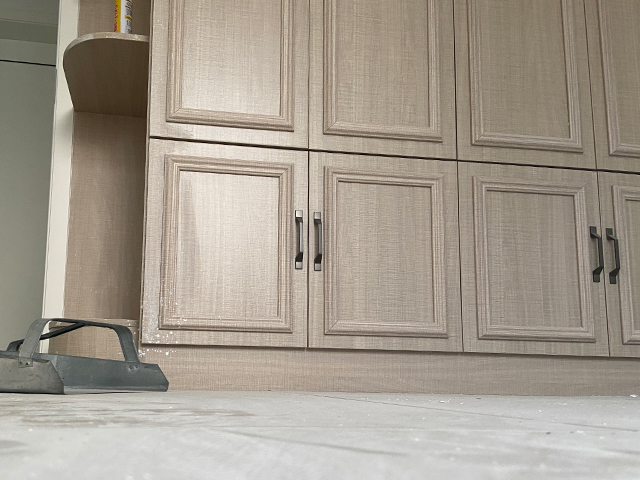cabinet: (46, 1, 640, 396)
